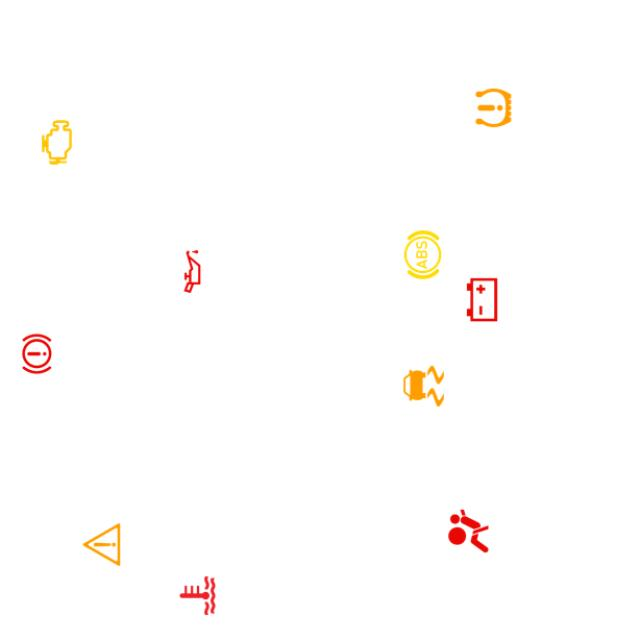Anti Lock Braking System: (396, 228, 449, 282)
Braking System Issue: (11, 328, 64, 380)
Charging System Issue: (456, 273, 508, 326)
Check Engine: (31, 116, 84, 169)
Electronic Stability Problem -ESP-: (397, 360, 450, 412)
Engine Overheating Warning Light: (171, 569, 224, 622)
Low Engine Oil Warning Light: (166, 245, 219, 298)
Low Tire Pressure Warning Light: (467, 82, 520, 134)
Master warning light: (75, 518, 128, 571)
SRS-Airbag: (442, 504, 495, 558)
